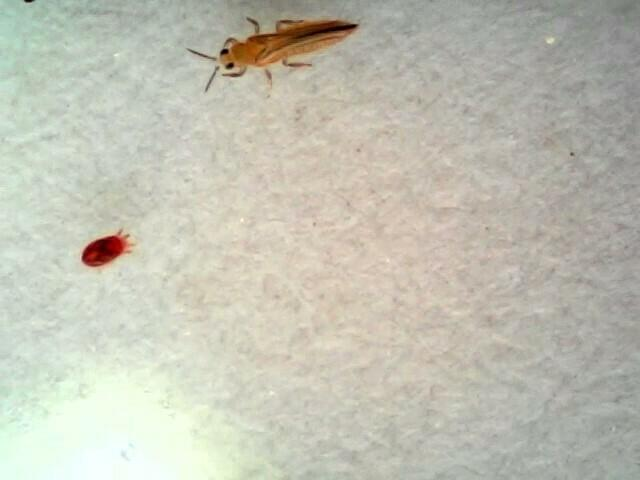tiny_pests: (172, 0, 371, 111)
